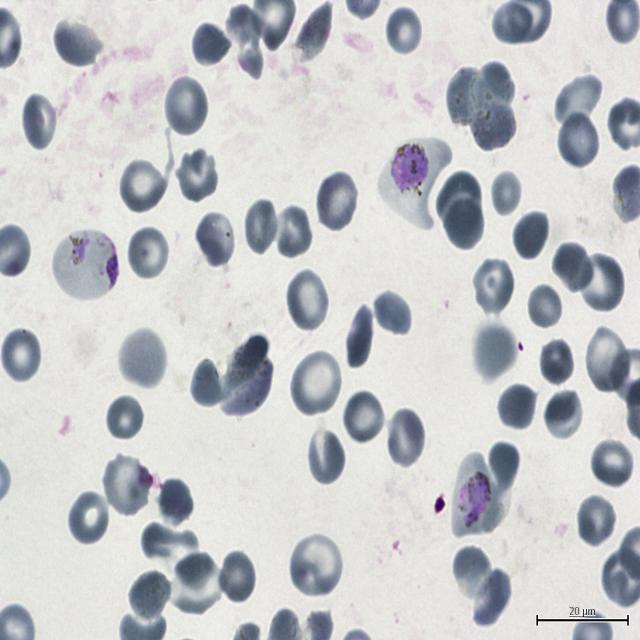difficult: (376, 136, 452, 230), (52, 229, 120, 300)
red blood cell: (224, 334, 276, 414), (290, 533, 344, 600), (290, 351, 342, 418), (170, 550, 222, 617), (102, 453, 152, 517), (118, 326, 168, 389), (584, 327, 630, 395), (577, 250, 625, 313), (314, 169, 360, 234), (284, 268, 330, 333), (446, 64, 492, 129), (118, 157, 168, 216), (163, 74, 209, 137), (468, 565, 513, 629), (436, 173, 482, 235), (468, 94, 516, 153), (471, 254, 515, 317), (450, 543, 496, 603), (228, 5, 266, 77), (556, 110, 600, 170), (384, 407, 426, 469), (126, 224, 170, 282), (67, 489, 111, 547), (128, 568, 174, 623), (194, 209, 236, 269), (342, 389, 386, 446), (176, 147, 220, 204), (552, 75, 602, 125), (589, 437, 636, 490), (20, 90, 60, 152), (54, 20, 105, 68), (306, 425, 346, 486), (140, 520, 199, 561), (295, 1, 333, 64), (272, 202, 313, 260), (551, 240, 595, 294), (575, 493, 618, 548), (1, 328, 42, 385), (217, 550, 257, 604), (384, 4, 424, 58), (543, 388, 583, 442), (496, 381, 538, 432), (188, 354, 226, 410), (242, 198, 279, 255), (190, 20, 233, 69), (445, 198, 484, 252), (511, 209, 550, 262), (474, 328, 516, 377), (537, 335, 575, 388), (474, 61, 514, 111), (156, 477, 194, 528), (105, 394, 144, 443), (526, 282, 564, 332), (489, 168, 524, 220), (346, 305, 374, 369), (373, 289, 412, 334), (493, 4, 534, 45), (489, 442, 519, 489)
trophozoite: (450, 451, 506, 538)
